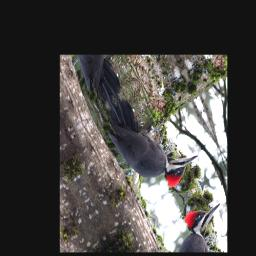Woodpecker: (97, 70, 204, 213)
